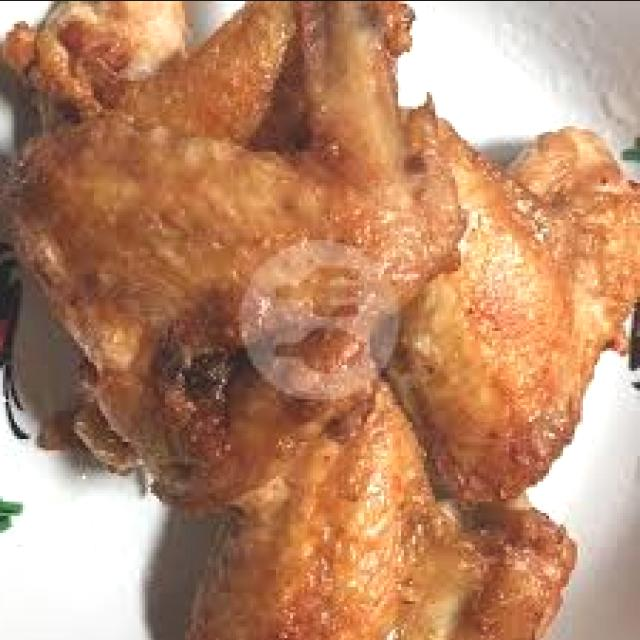ayam goreng: (0, 0, 458, 572), (381, 117, 640, 506)
